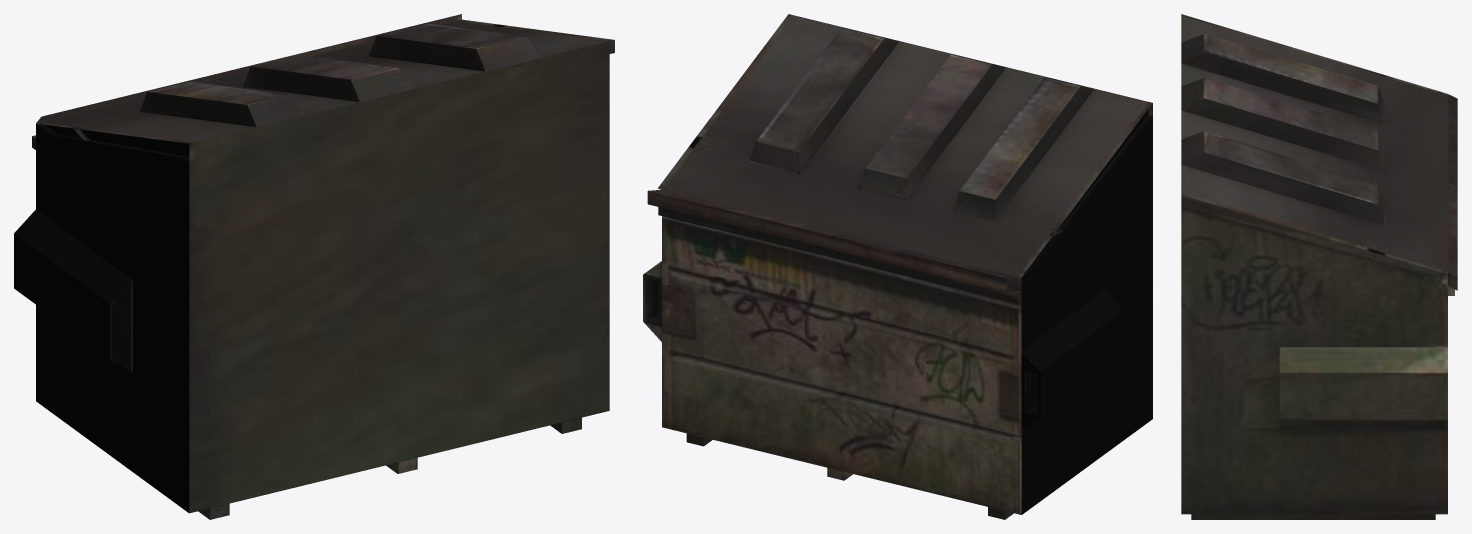
Rendered from Dumpster.fbx.
3 renders of one model, left to right at view 1: azimuth 30°, elevation 25°; view 2: azimuth 150°, elevation 25°; view 3: azimuth 270°, elevation 25°, orthographic. The views are drawn at different scales.
Parts seen in each view (by area): view 1: Cube; view 2: Cube; view 3: Cube.
Boxes of the visible parts, <box> form: Cube: <box>14,14,614,519</box>; Cube: <box>643,14,1152,519</box>; Cube: <box>1181,14,1457,519</box>.
Bounding box in the file's own units: 185 × 152 × 110.
